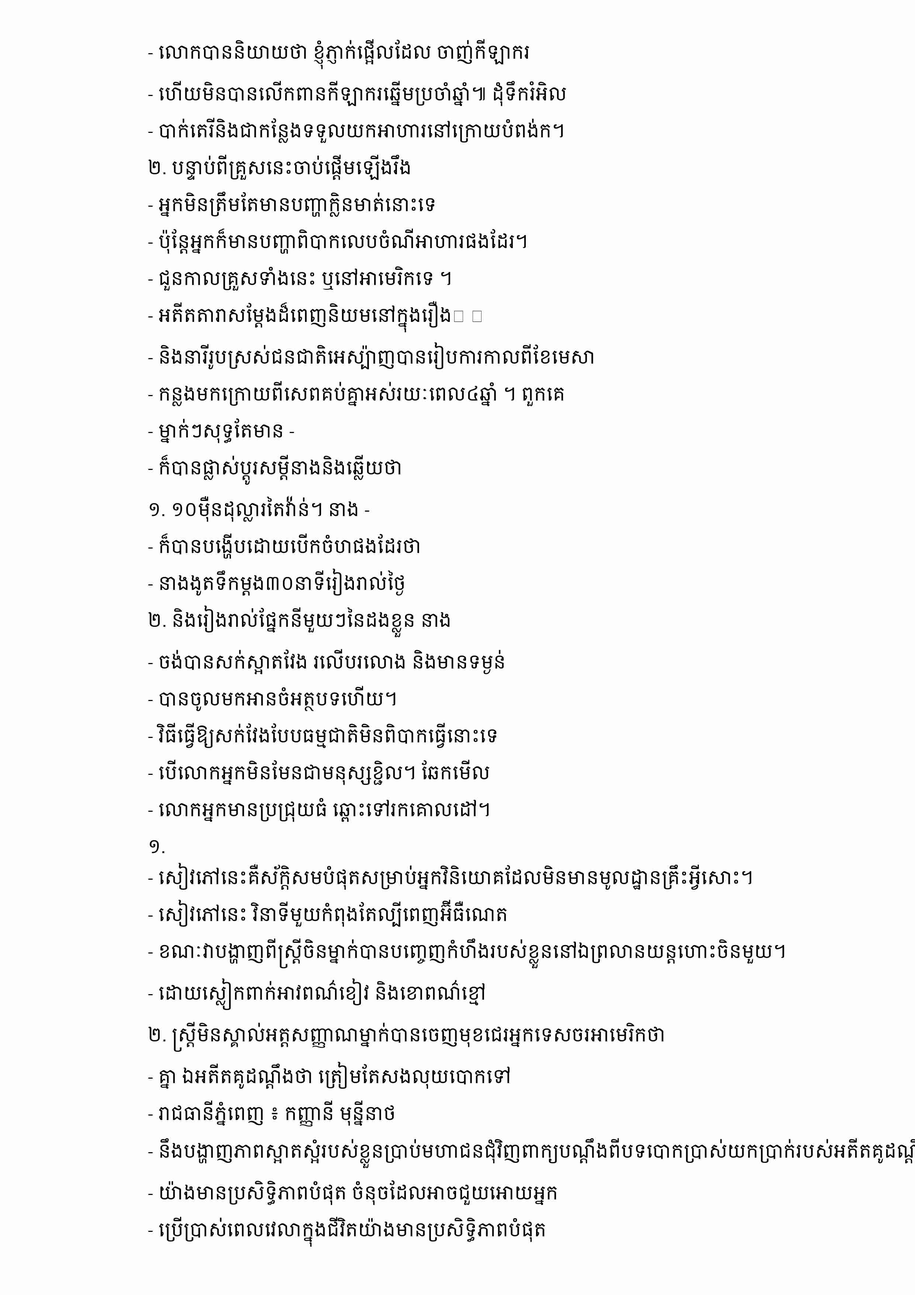text: (148, 1138, 915, 1168), (148, 938, 791, 969), (148, 863, 759, 890), (148, 1022, 670, 1052), (148, 342, 600, 370), (148, 1217, 551, 1247), (148, 39, 535, 69), (148, 978, 491, 1010), (148, 301, 488, 333), (148, 81, 572, 106), (148, 118, 570, 143), (148, 381, 570, 406), (148, 1180, 563, 1205), (148, 605, 457, 638), (148, 1062, 516, 1089), (148, 900, 513, 927), (148, 229, 533, 254), (148, 649, 511, 674), (148, 723, 503, 748), (148, 760, 495, 785), (148, 798, 496, 822), (148, 455, 407, 485), (148, 266, 458, 291), (148, 192, 442, 217), (148, 533, 426, 559), (148, 569, 411, 596), (148, 1100, 401, 1127), (148, 155, 417, 180), (148, 686, 402, 711), (148, 496, 375, 522), (148, 418, 300, 443), (148, 840, 171, 853)
